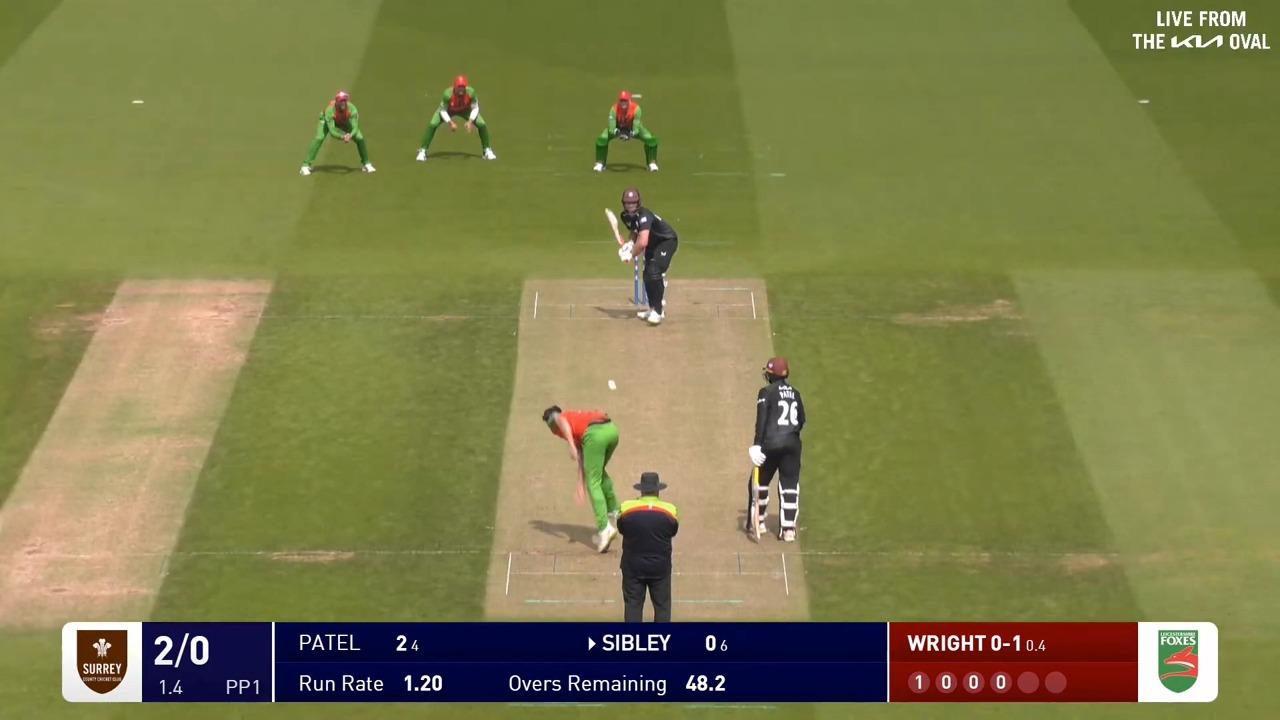sports ball: (608, 380, 616, 390)
